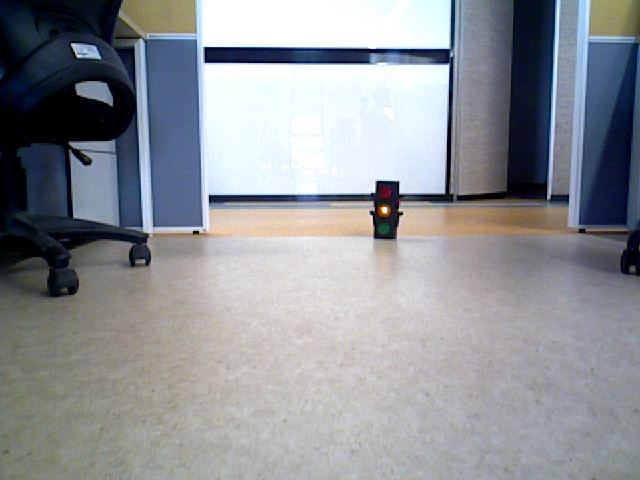yellow: (376, 183, 396, 235)
